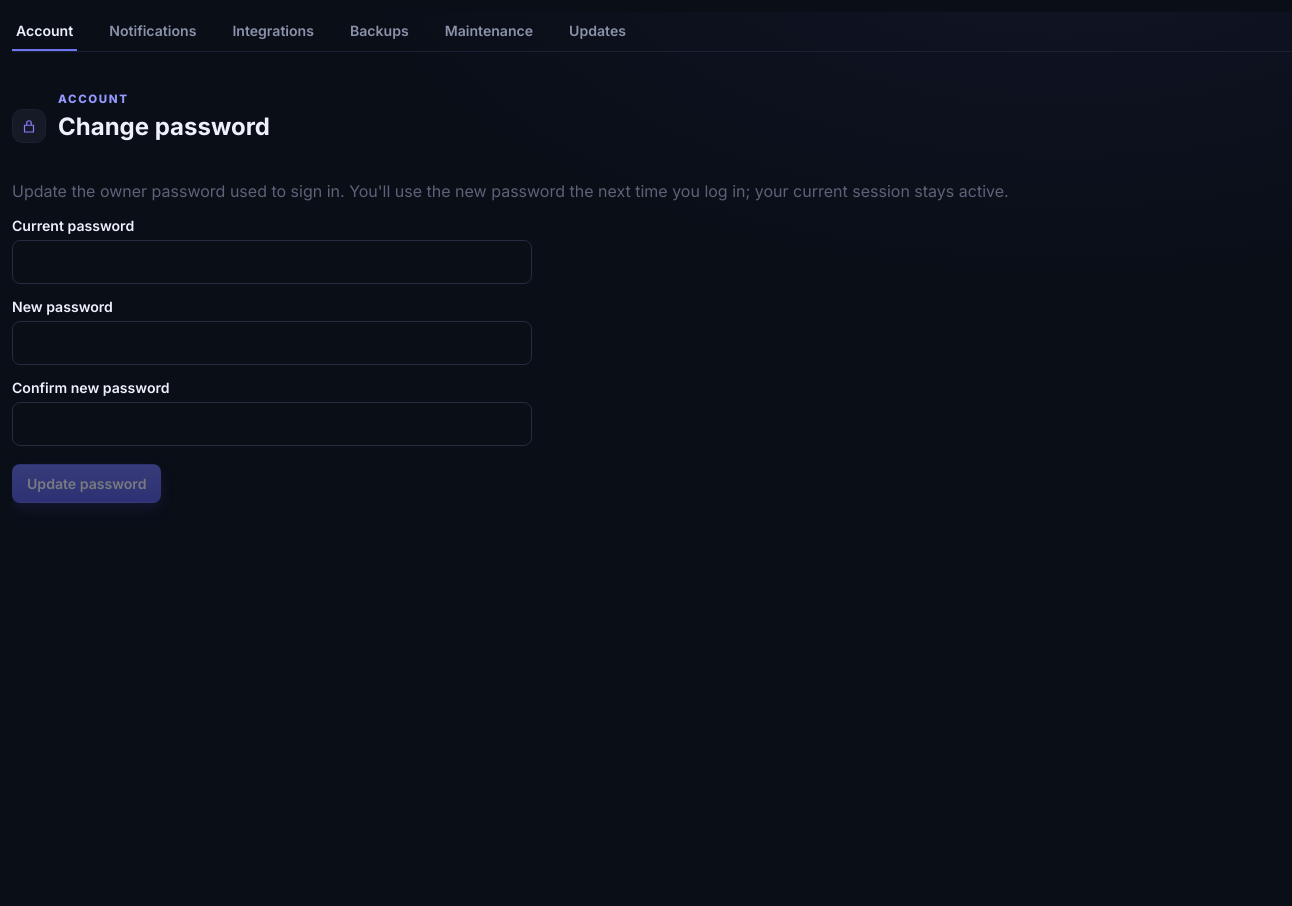
Scenario: SettingsPage — backup & restore › shows backup and restore sections on the Backups tab
Click the tab "Backups".
click(379, 32)  # box [346,12,413,51]
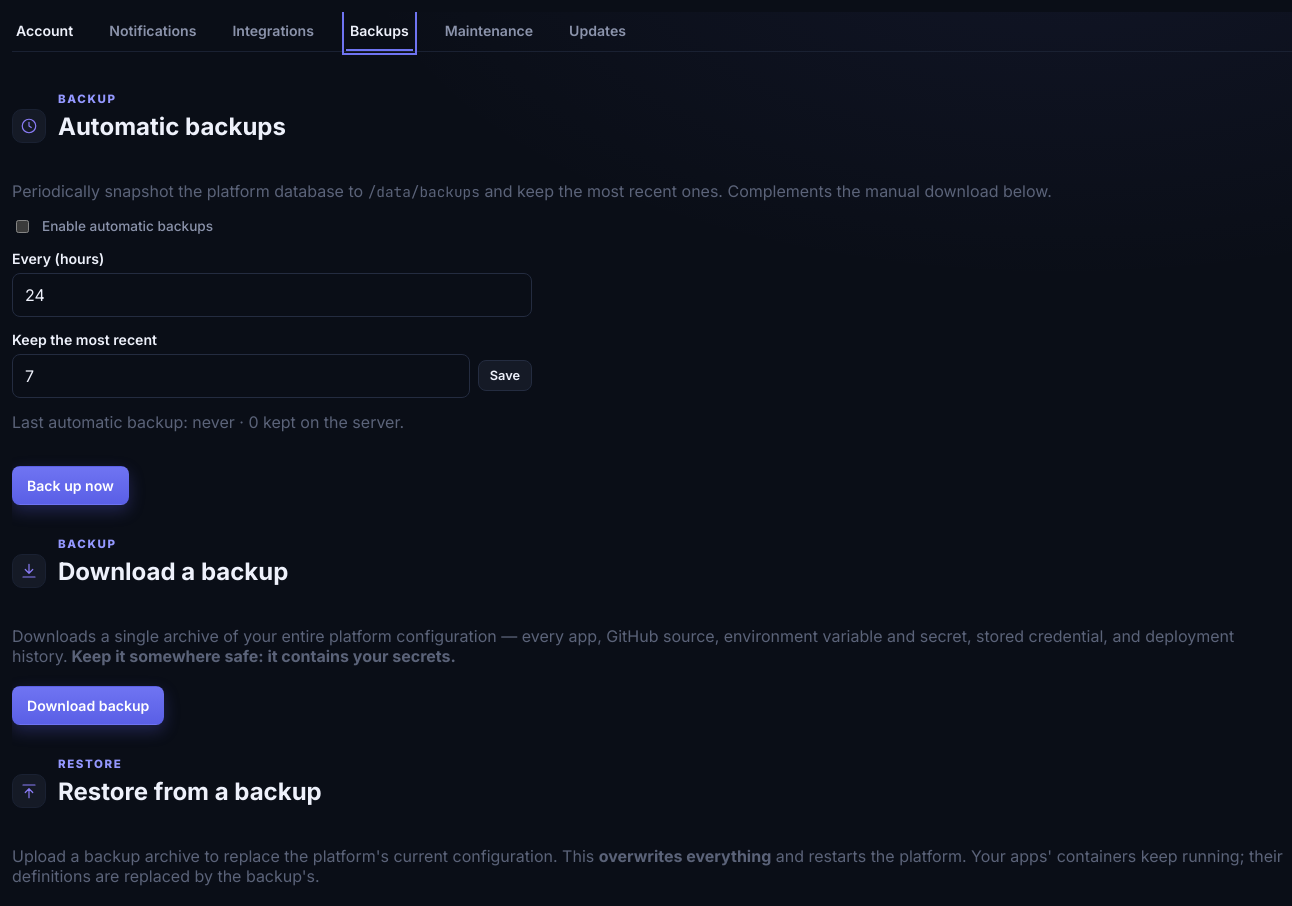
Expected: the button "Download backup" is shown, [12,686,164,725]
Expected: the heading "Restore from a backup" is shown, [58,777,322,806]
